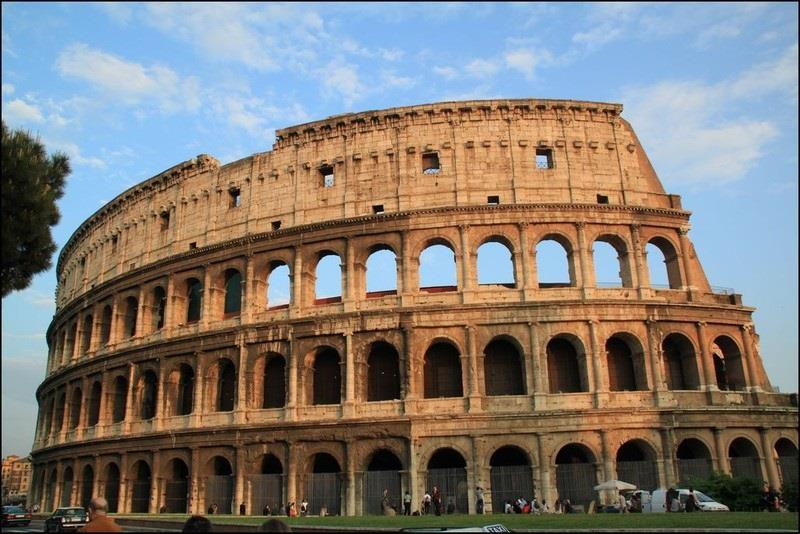Colosseum: (55, 120, 764, 507)
